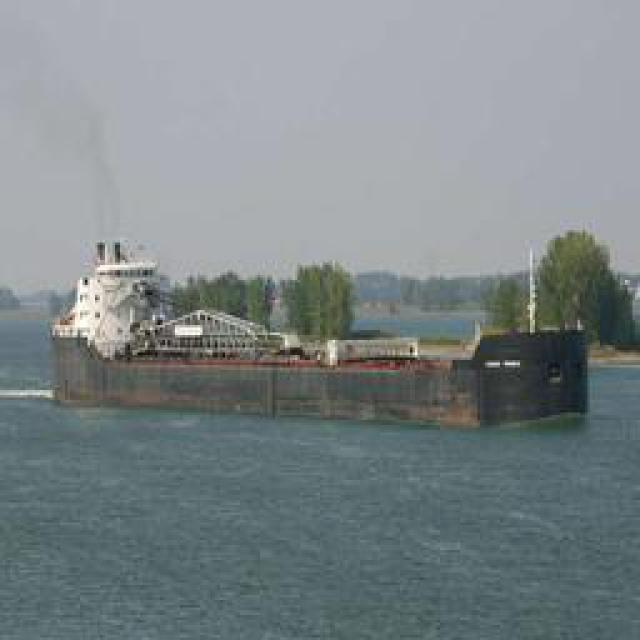Ship: (46, 236, 601, 437)
